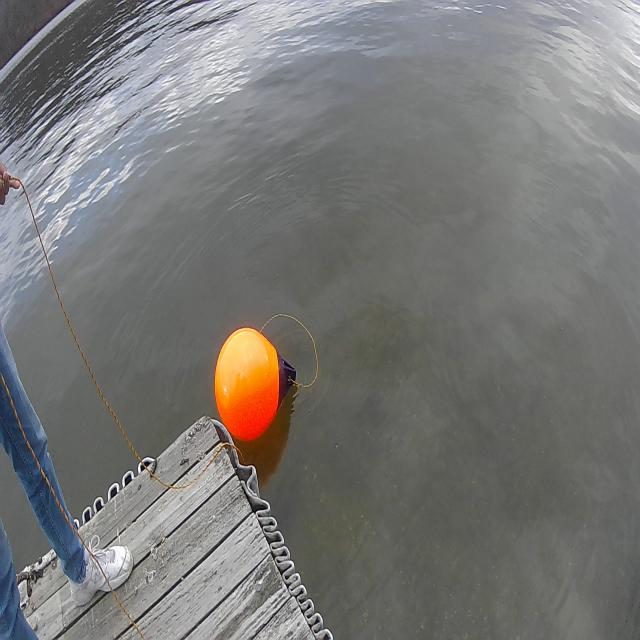Buoy: (213, 322, 282, 447)
